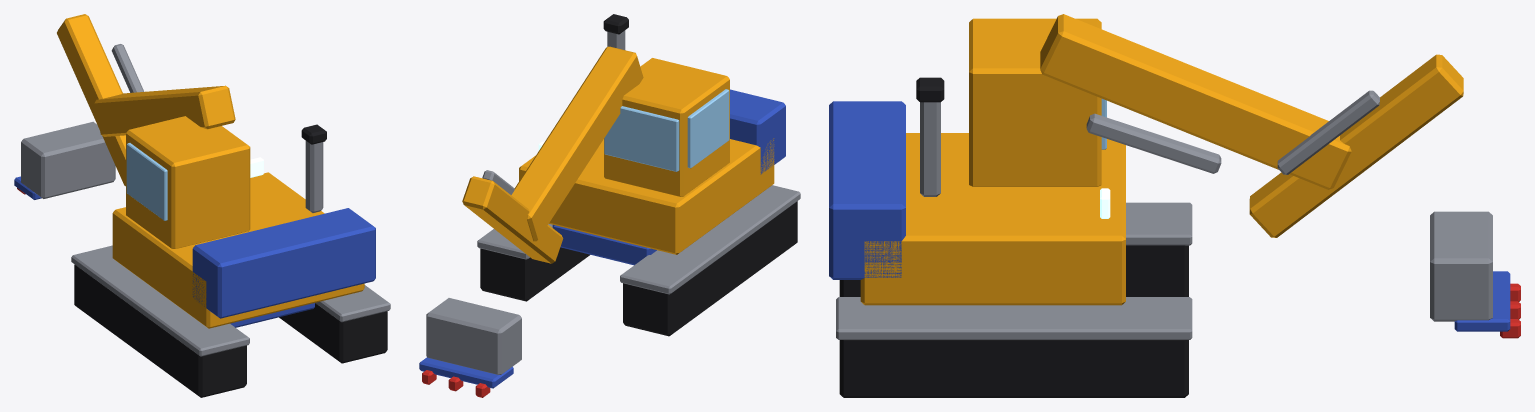
Rendered from dig_excavator.fbx.
The picture shows the model from 3 angles, left to right: view 1: azimuth 30°, elevation 25°; view 2: azimuth 150°, elevation 25°; view 3: azimuth 270°, elevation 25°; orthographic projection. The views are drawn at different scales.
Parts seen in each view (by area): view 1: Cab, Root, Bucket, Boom, Stick; view 2: Cab, Root, Boom, Bucket, Stick; view 3: Cab, Root, Boom, Stick, Bucket.
Boxes of the visible parts, x1,y1,x2,y2 form: Cab: (112, 116, 375, 328); Root: (71, 245, 390, 397); Bucket: (14, 121, 115, 199); Boom: (94, 85, 235, 136); Stick: (57, 14, 144, 186); Cab: (519, 14, 785, 254); Root: (477, 185, 800, 336); Boom: (511, 46, 643, 241); Bucket: (419, 298, 521, 397); Stick: (462, 170, 563, 263); Cab: (829, 18, 1125, 305); Root: (836, 202, 1192, 397); Boom: (1040, 14, 1351, 189); Stick: (1249, 54, 1463, 237); Bucket: (1430, 211, 1520, 338).
Size of the model in its own units: 8.7 by 9.91 by 19.8.
